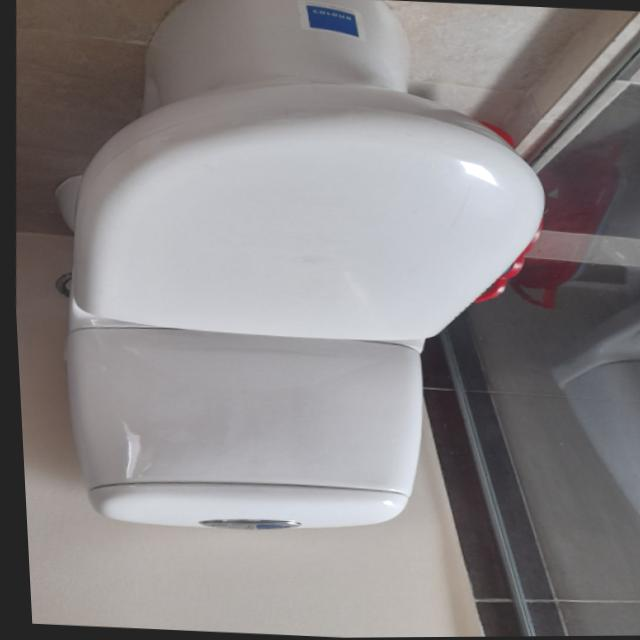toilet: (33, 0, 566, 548)
